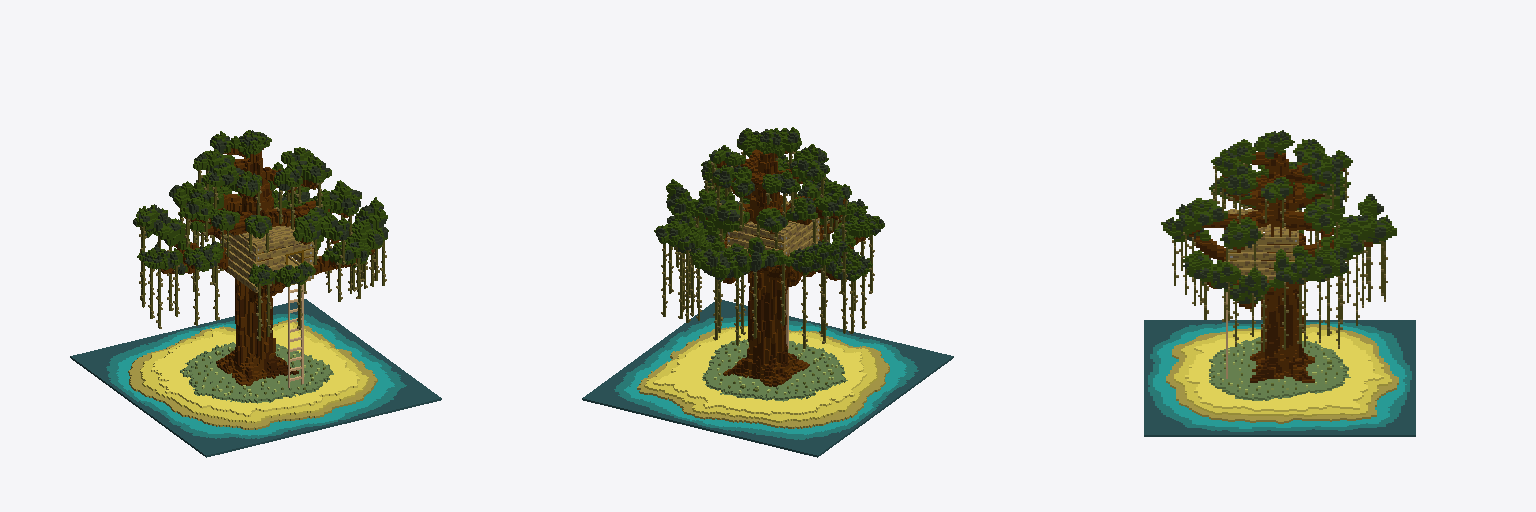
3 views of the same model, side by side, from view 1: azimuth 30°, elevation 25°; view 2: azimuth 150°, elevation 25°; view 3: azimuth 270°, elevation 25° (orthographic).
Bounding box in the file's own units: 126 × 126 × 126.
1 materials, 1 textured.